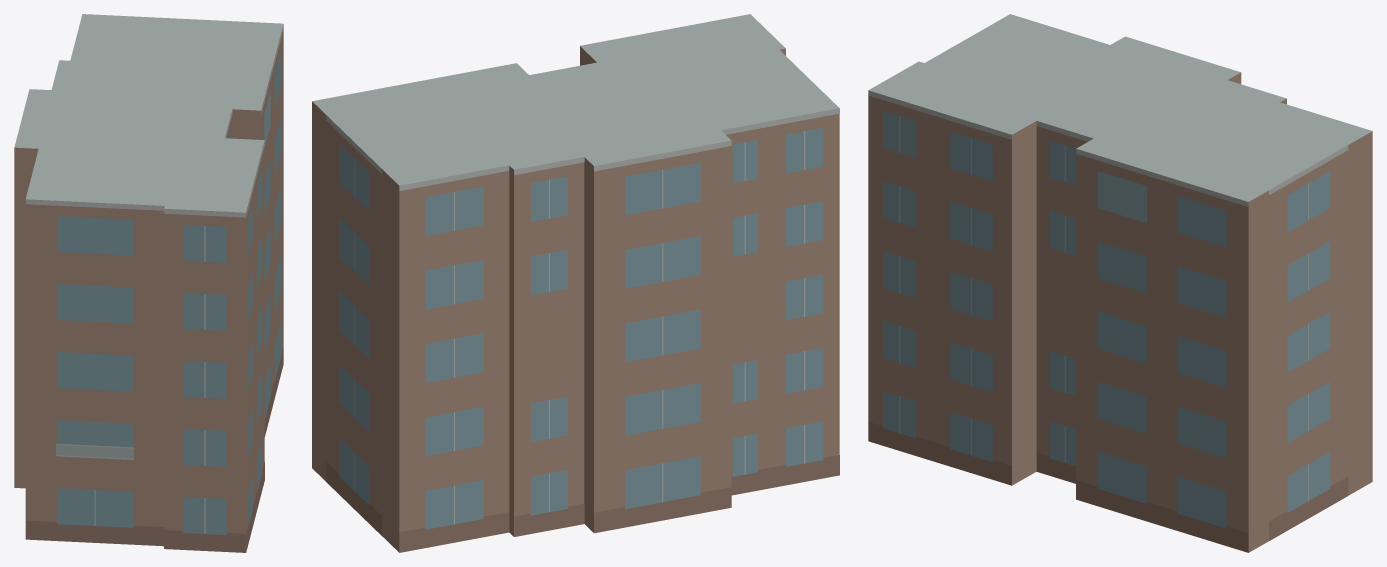
The model's file is survey-upis-32671918.glb.
3 views of the same model, side by side, from view 1: azimuth 30°, elevation 25°; view 2: azimuth 150°, elevation 25°; view 3: azimuth 270°, elevation 25° (orthographic). The views are drawn at different scales.
Visible parts, largest first — view 1: survey-upis-32671918.tmp; view 2: survey-upis-32671918.tmp; view 3: survey-upis-32671918.tmp.
Part boxes in pixels (left/top/right/bottom): survey-upis-32671918.tmp: left=14, top=14, right=283, bottom=552; survey-upis-32671918.tmp: left=312, top=14, right=839, bottom=552; survey-upis-32671918.tmp: left=868, top=14, right=1372, bottom=552.
Size of the model in its own units: 19.32 by 16.8 by 21.9.
